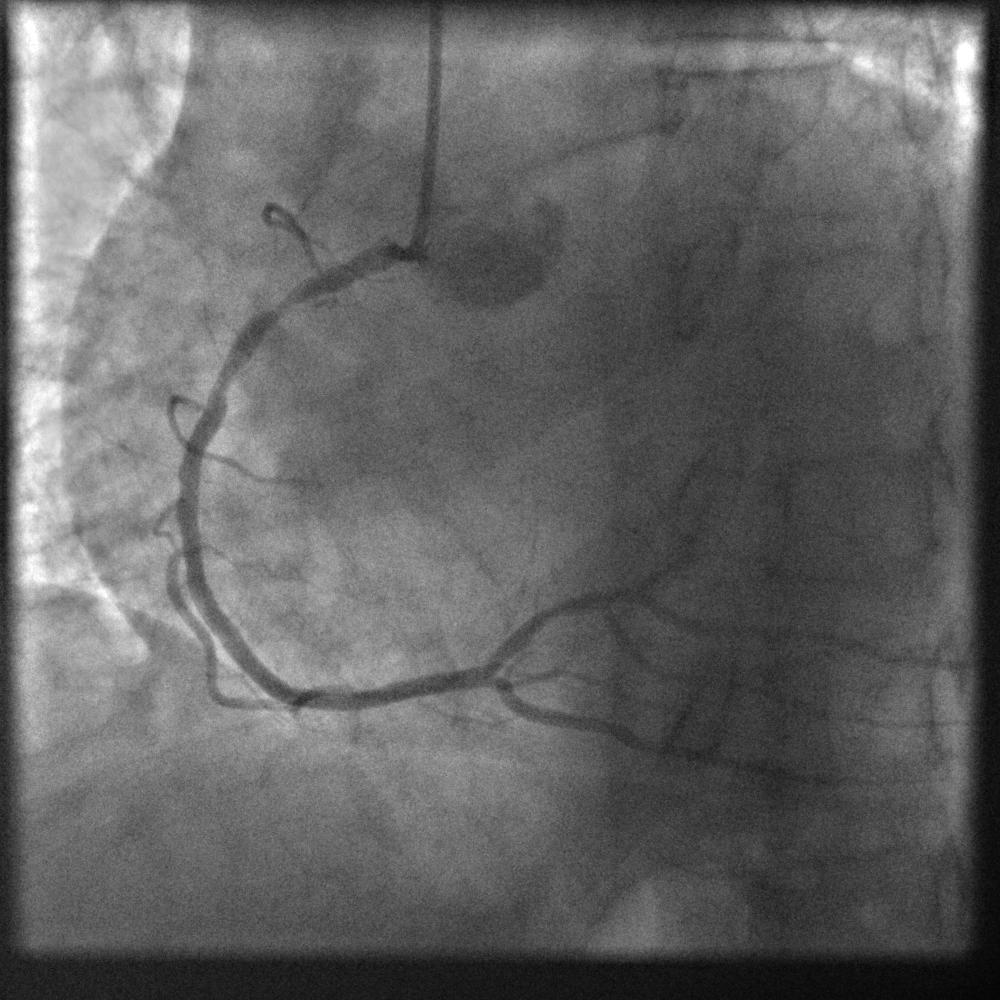Stenosis: (253, 285, 315, 325)
